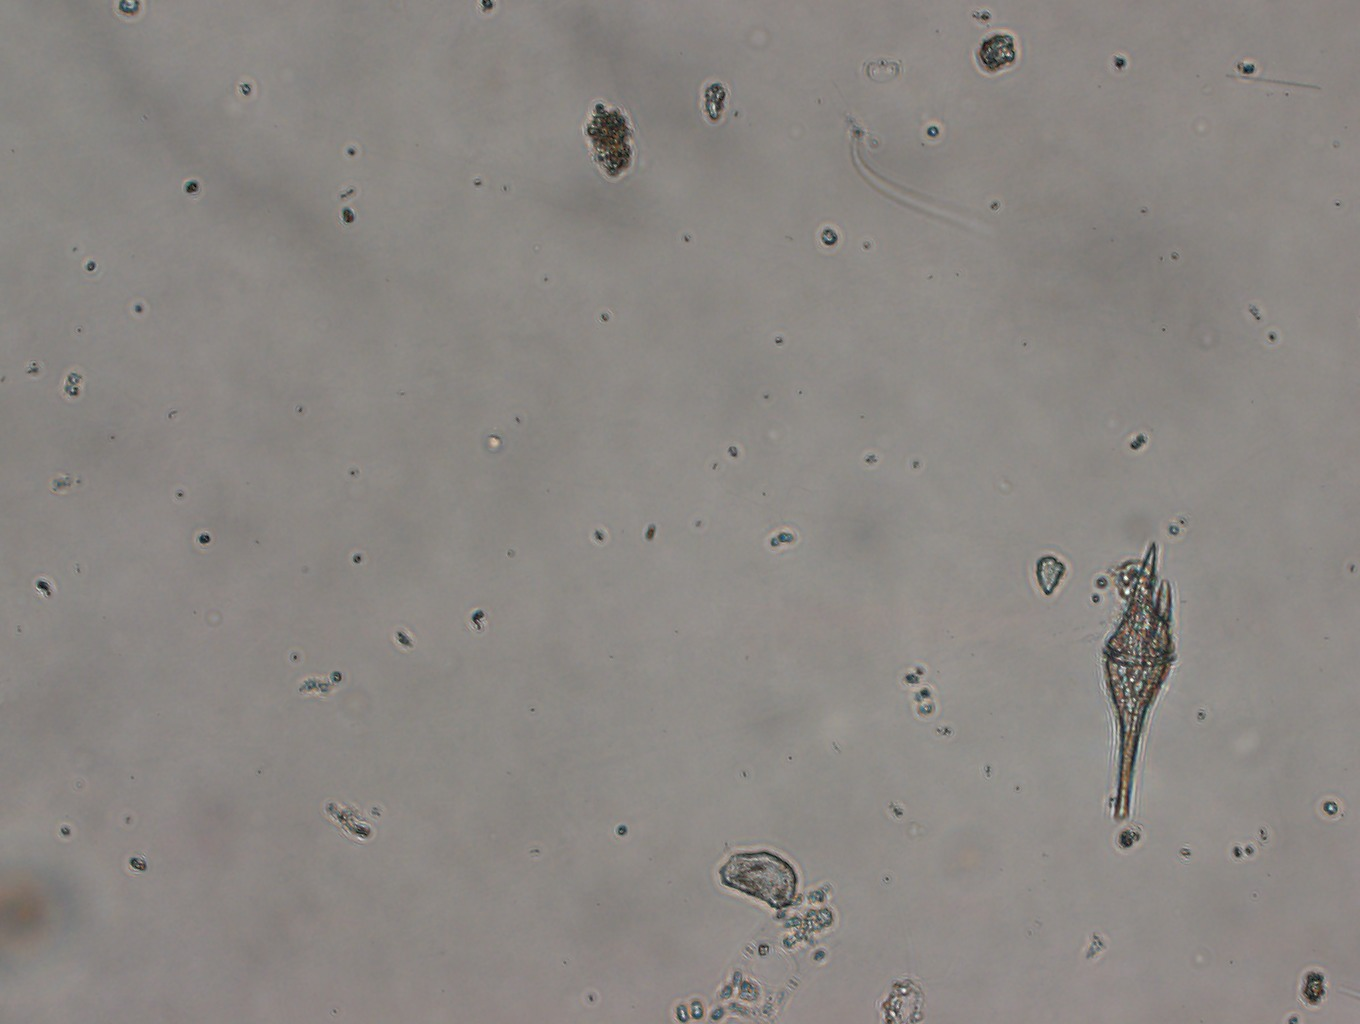ceratium furca: (1099, 543, 1179, 822)
